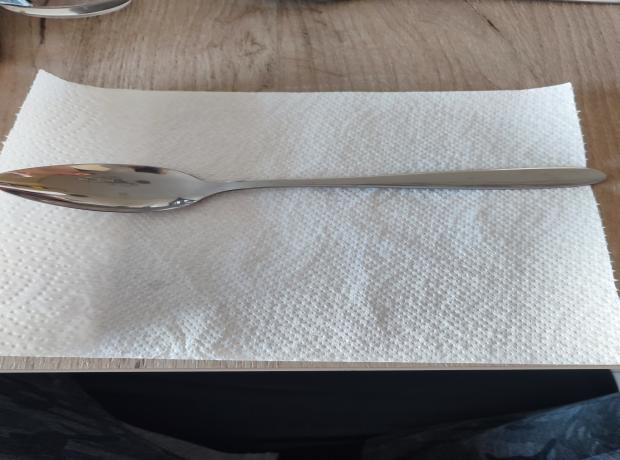metal: (0, 163, 610, 214)
